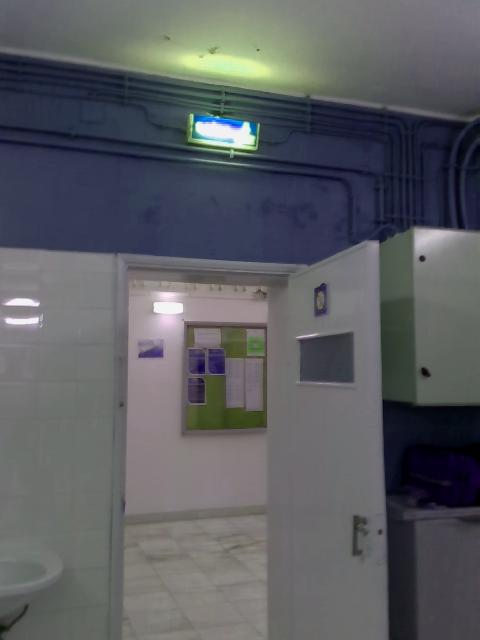open_door: (111, 252, 307, 638)
